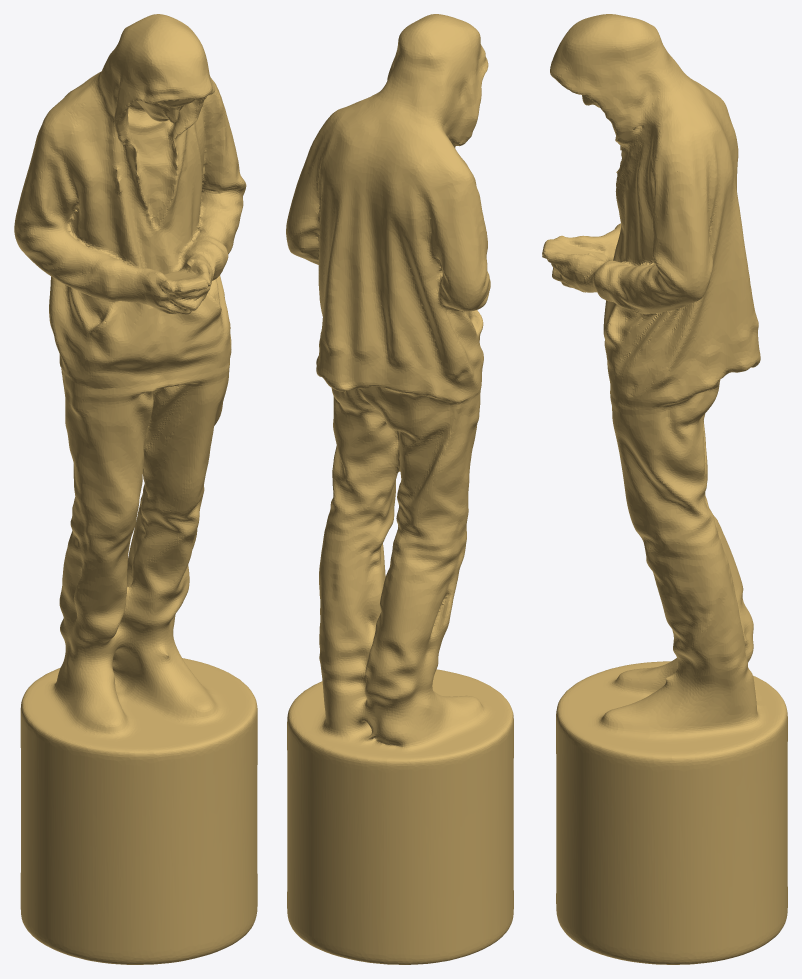
Rendered from nowygit.gltf.
3 renders of one model, left to right at view 1: azimuth 30°, elevation 25°; view 2: azimuth 150°, elevation 25°; view 3: azimuth 270°, elevation 25°, orthographic. The views are drawn at different scales.
Parts seen in each view (by area): view 1: Group30945; view 2: Group30945; view 3: Group30945.
Boxes of the visible parts, left/top/right/bottom form: Group30945: left=14, top=14, right=257, bottom=964; Group30945: left=286, top=14, right=513, bottom=964; Group30945: left=542, top=14, right=787, bottom=964.
Bounding box in the file's own units: 1.25 × 5.13 × 1.27.
